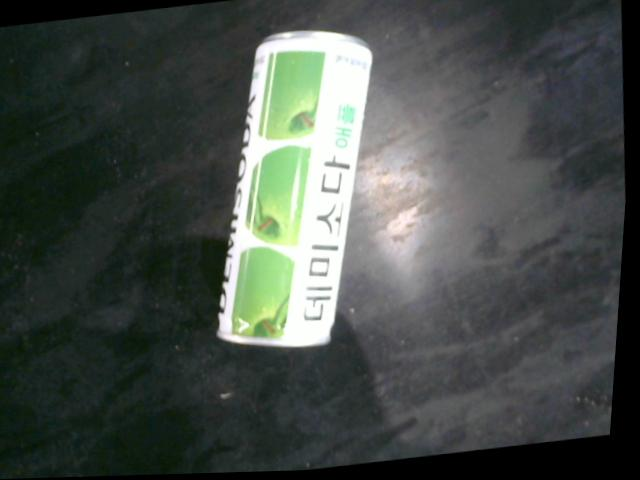can: (220, 30, 375, 351)
